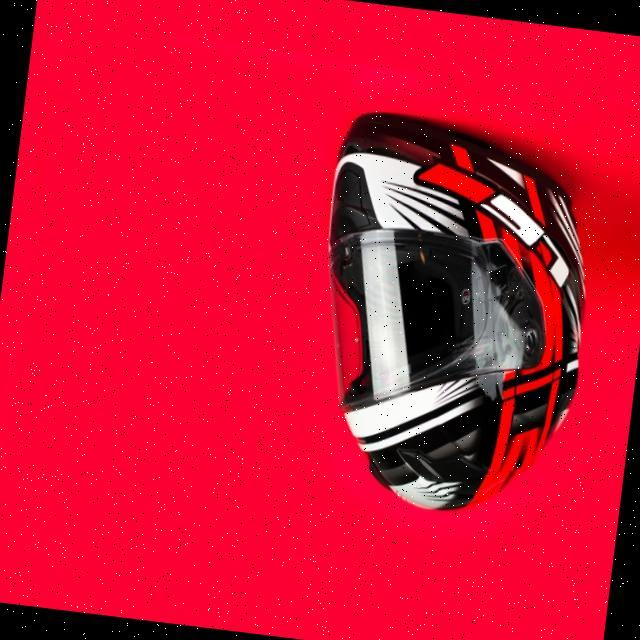Helm: (286, 106, 608, 528)
